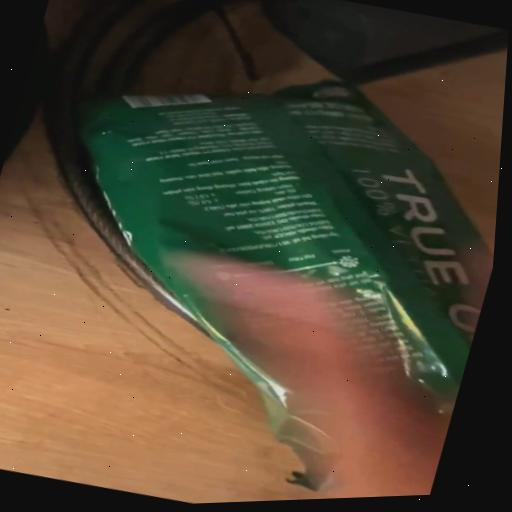cafe_xay: (54, 81, 492, 465)
